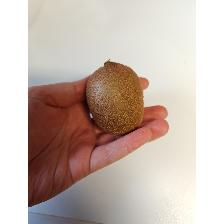Kiwi: (85, 60, 145, 136)
